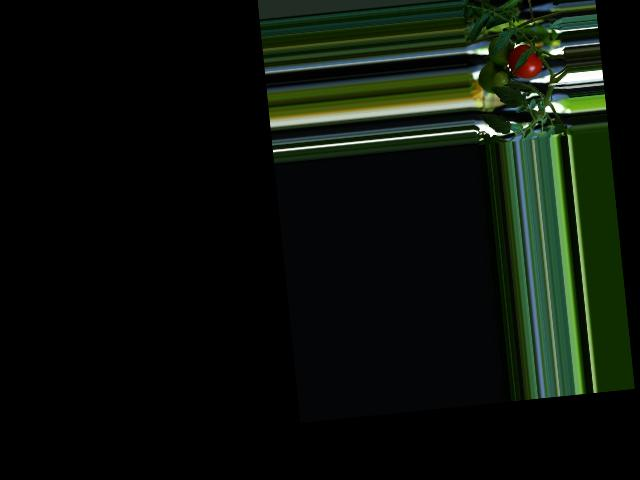tomato: (507, 43, 544, 80)
